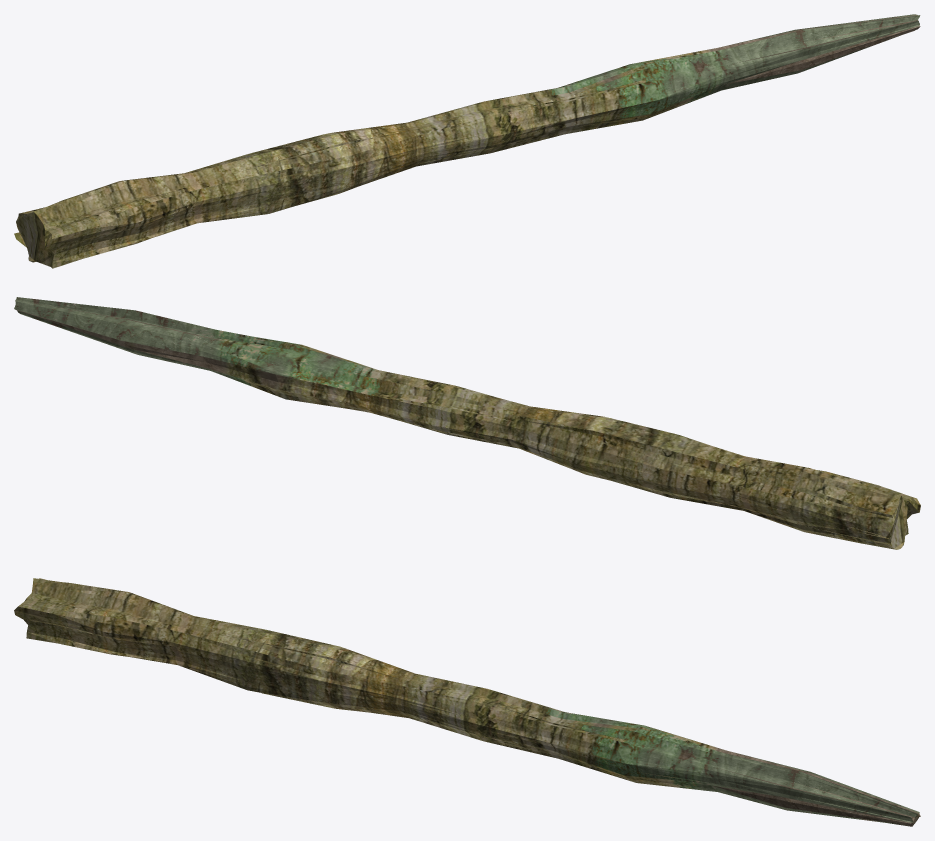
Rendered from wooden_spear.glb.
3 views of the same model, one above another, from view 1: azimuth 30°, elevation 25°; view 2: azimuth 150°, elevation 25°; view 3: azimuth 330°, elevation 25° (orthographic).
Visible parts, largest first — view 1: Object_2; view 2: Object_2; view 3: Object_2.
Part boxes in pixels (bbox=[...]): Object_2: bbox=[14, 14, 920, 268]; Object_2: bbox=[14, 297, 920, 549]; Object_2: bbox=[14, 578, 920, 826].
Bounding box in the file's own units: 7.47 × 0.5083 × 0.5126.
Materials: 1 (1 with a texture image).
